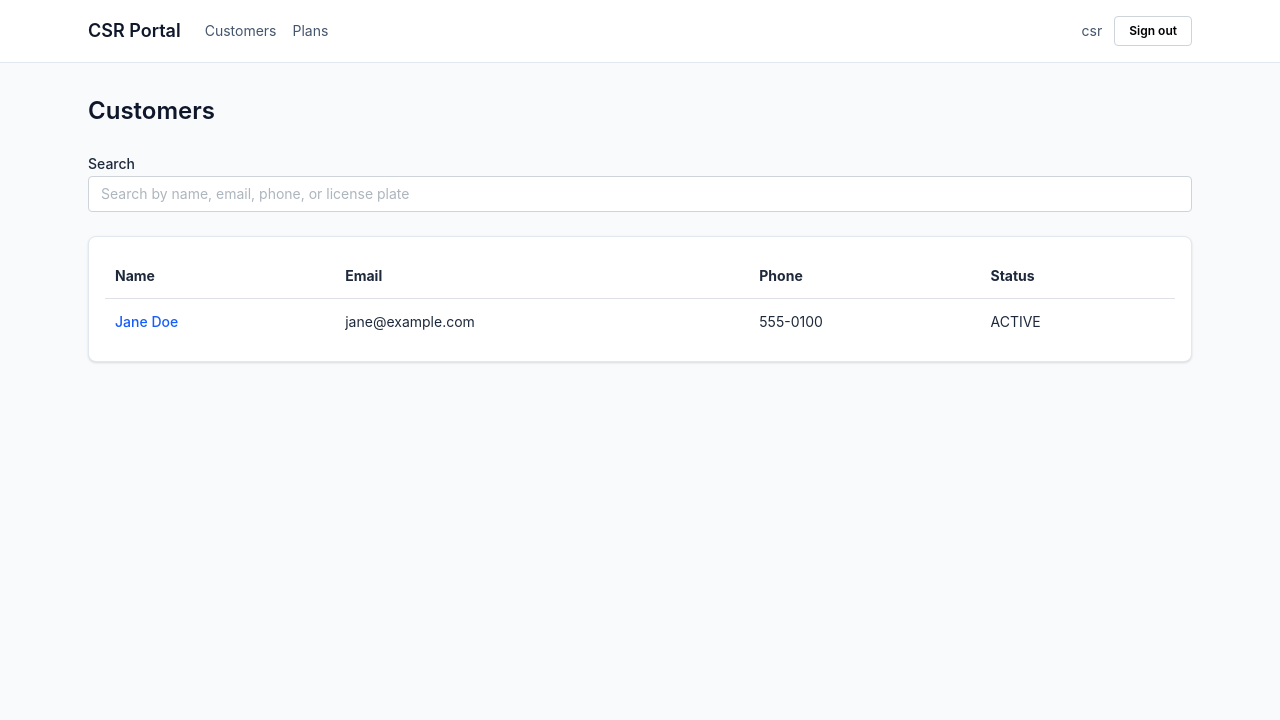
Scenario: App › authentication › signs out from the header and returns to the login page
The width and height of the screenshot is (1280, 720).
Click the button "Sign out" at (1153,31), box [1114,16,1192,46]
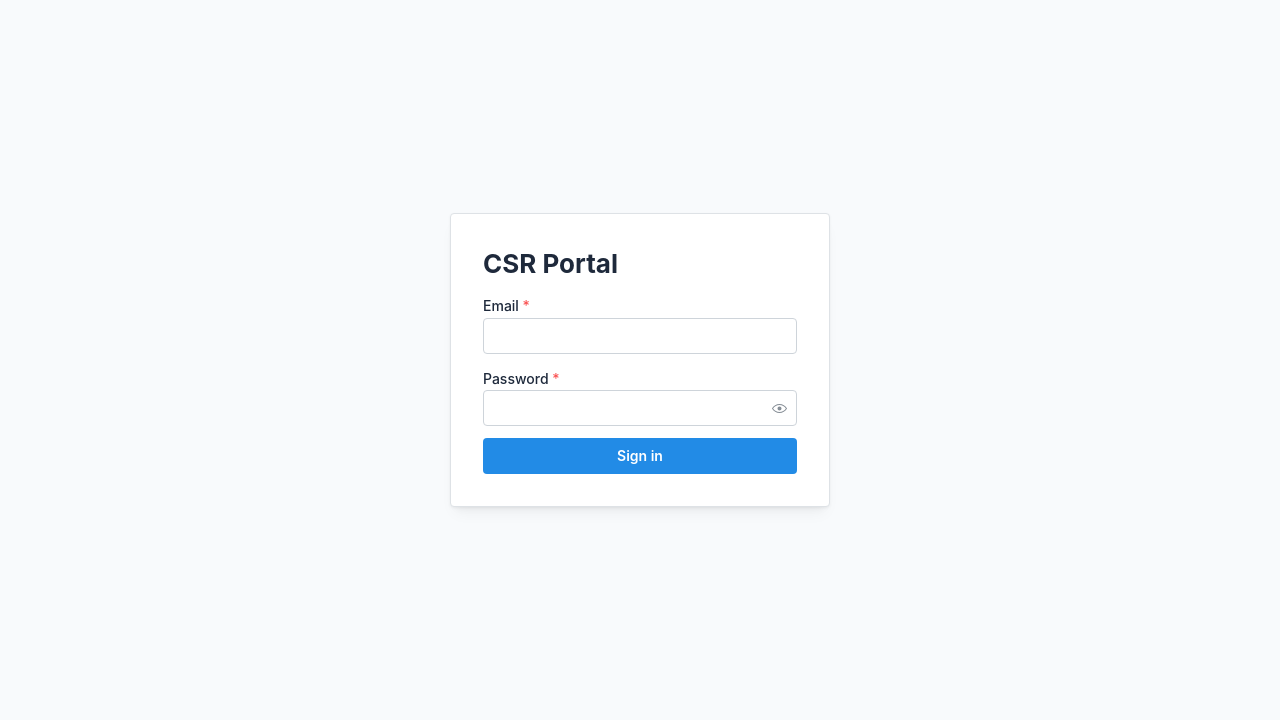
Expected: the button "Sign in" is shown, [483,438,797,474]
Expected: the link "Jane Doe" is gone
